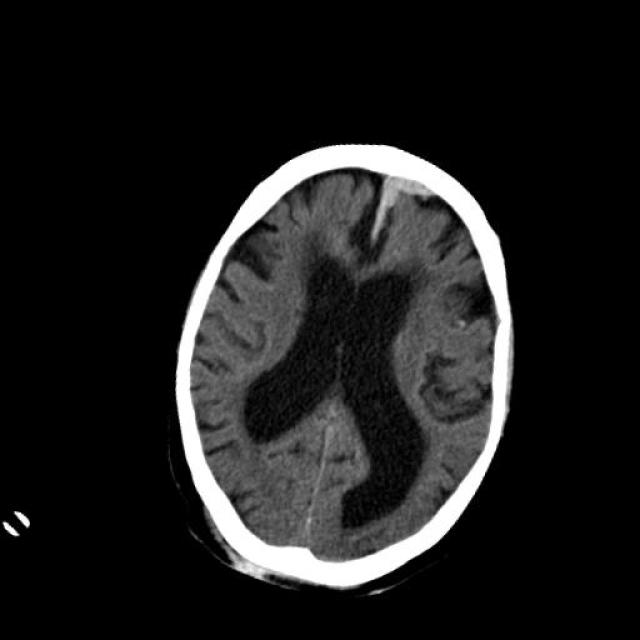Subdural: (306, 145, 470, 270)
